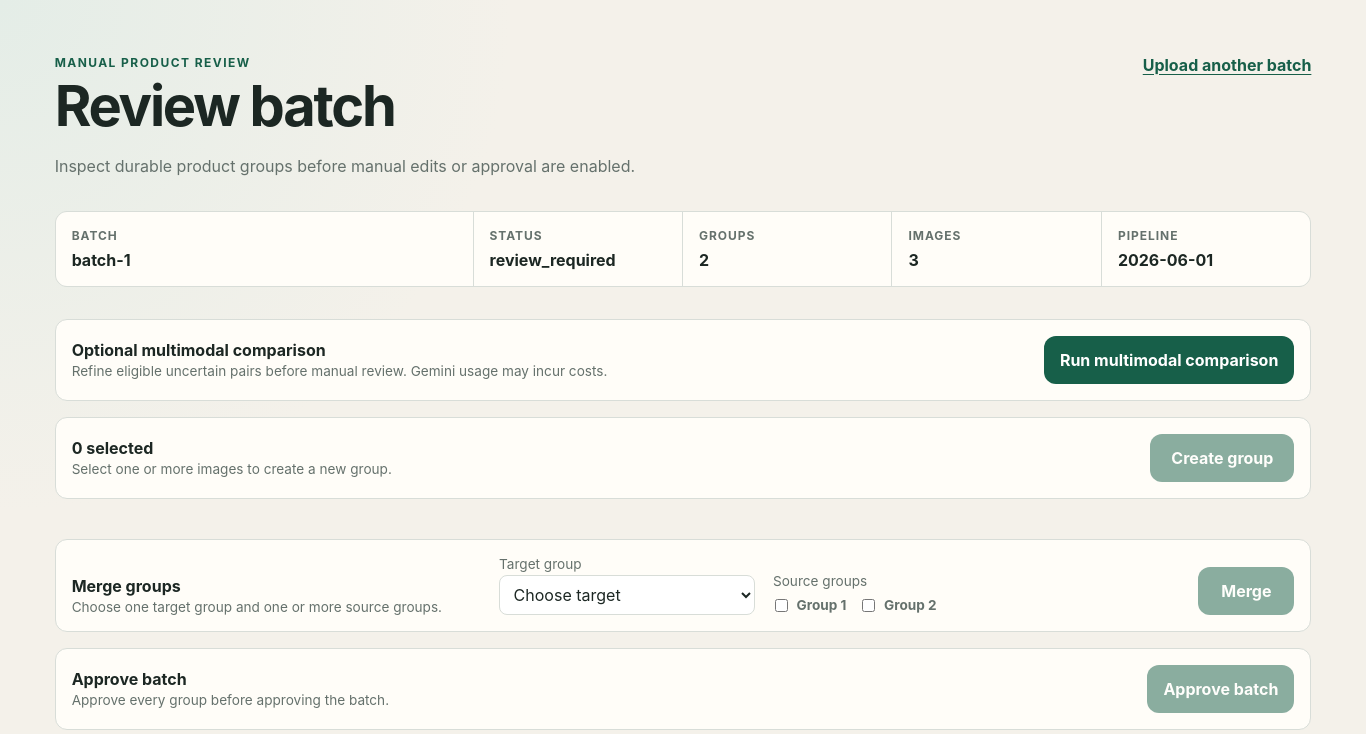
Test: ReviewBatch › keeps the current snapshot when stale-state refresh fails
This screenshot has width=1366, height=734.
Click the button "Run multimodal comparison" at (1169, 360), box [1044,336,1294,384]
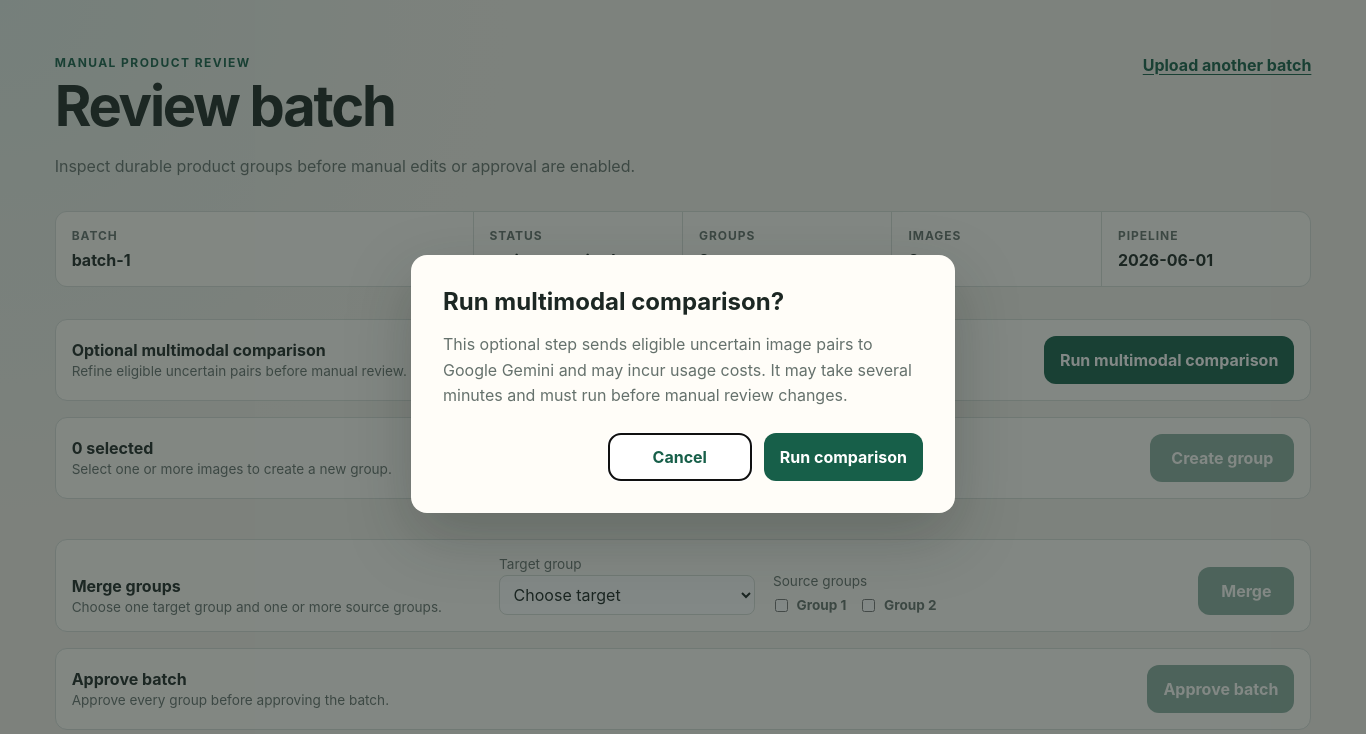
Click the button "Run comparison" at (843, 457), box [764,433,923,481]
(page scrolled)
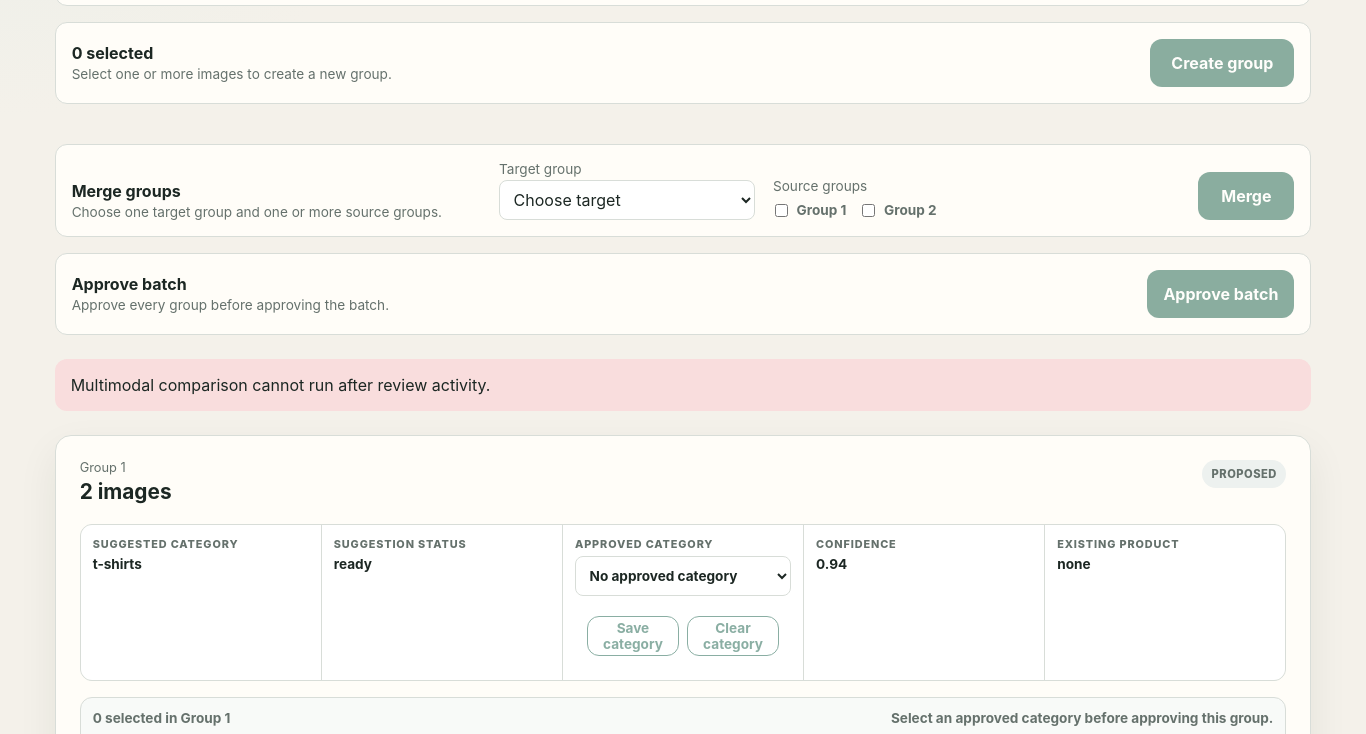
Expected: the message does not show "Refresh failed.", [55,359,1311,411]
Expected: the message reads "Multimodal comparison cannot run after review activity.", [71,375,490,395]
